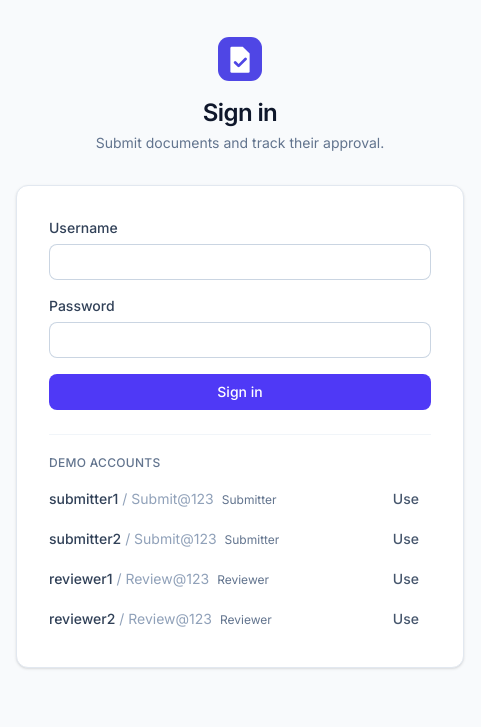
LoginPage › shows the API's message when the credentials are wrong
This screenshot has width=481, height=727.
In the field labelled "Username": (240, 262) [49,244,431,280], type "submitter1"
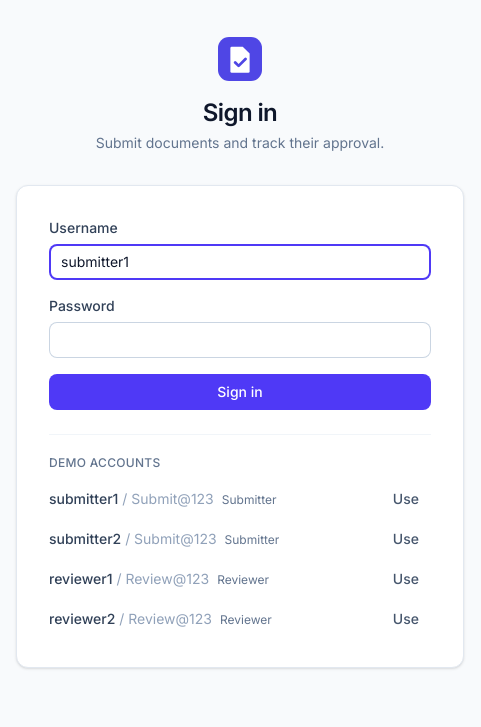
In the password field labelled "Password": (240, 340) [49,322,431,358], type "wrong"
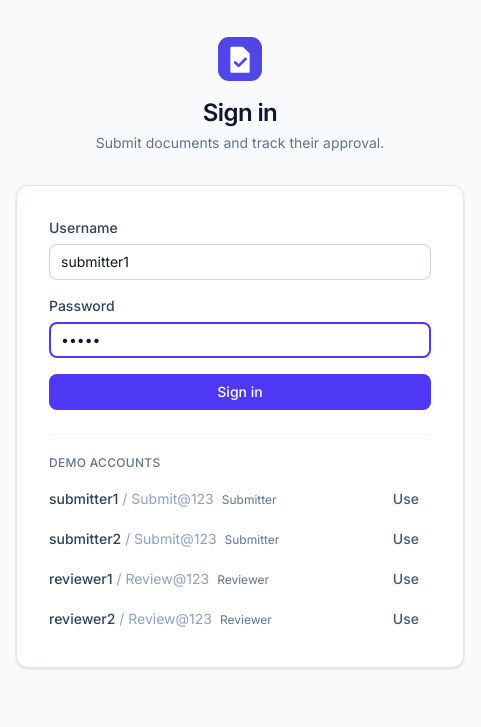
Click the button "Sign in": (240, 392) [49,374,431,410]
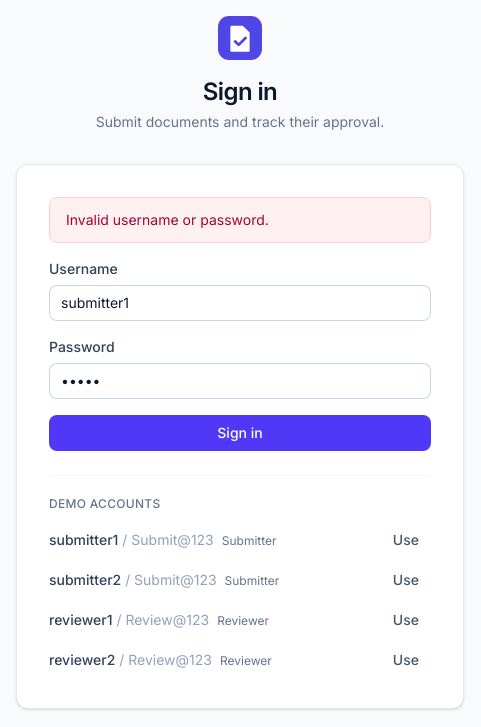
Now the message reads "Invalid username or password.", box [66,211,269,228]
